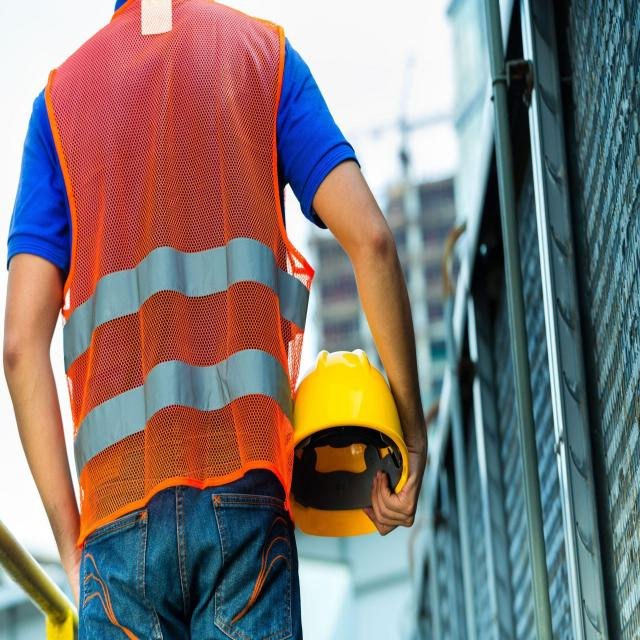Reflective-Jacket: (38, 0, 320, 611)
Safety-Helmet: (290, 344, 410, 473)
